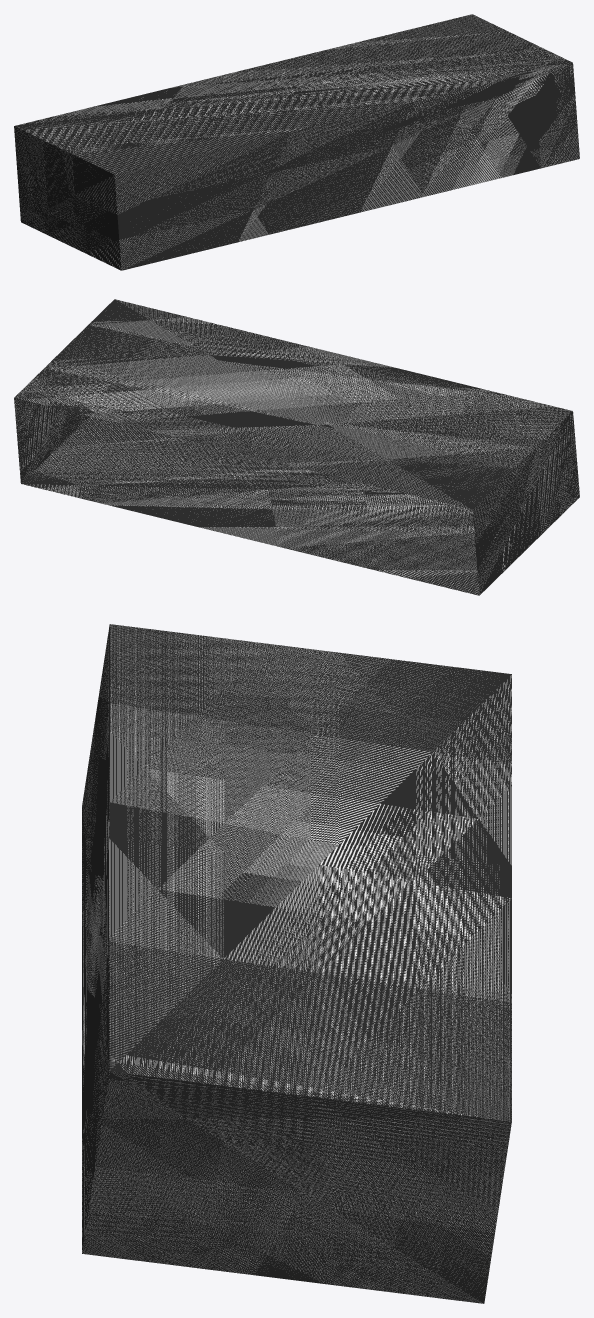
The model's file is original-34.obj.
3 views of the same model, one above another, from view 1: azimuth 30°, elevation 25°; view 2: azimuth 150°, elevation 25°; view 3: azimuth 270°, elevation 25° (orthographic). The views are drawn at different scales.
Visible parts, largest first — view 1: 3dw.b296fbfbbe5dccf09c12d6260da9ac2b/Model/mesh1/mesh1-geometry/; view 2: 3dw.b296fbfbbe5dccf09c12d6260da9ac2b/Model/mesh1/mesh1-geometry/; view 3: 3dw.b296fbfbbe5dccf09c12d6260da9ac2b/Model/mesh1/mesh1-geometry/.
Boxes of the visible parts, <box> form: 3dw.b296fbfbbe5dccf09c12d6260da9ac2b/Model/mesh1/mesh1-geometry/: <box>14,14,579,270</box>; 3dw.b296fbfbbe5dccf09c12d6260da9ac2b/Model/mesh1/mesh1-geometry/: <box>14,299,579,595</box>; 3dw.b296fbfbbe5dccf09c12d6260da9ac2b/Model/mesh1/mesh1-geometry/: <box>82,624,511,1303</box>.
Bounding box in the file's own units: 0.0465 × 0.0113 × 0.0189.
